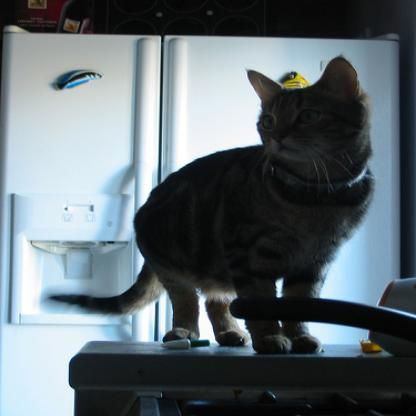cat: (48, 54, 375, 355)
